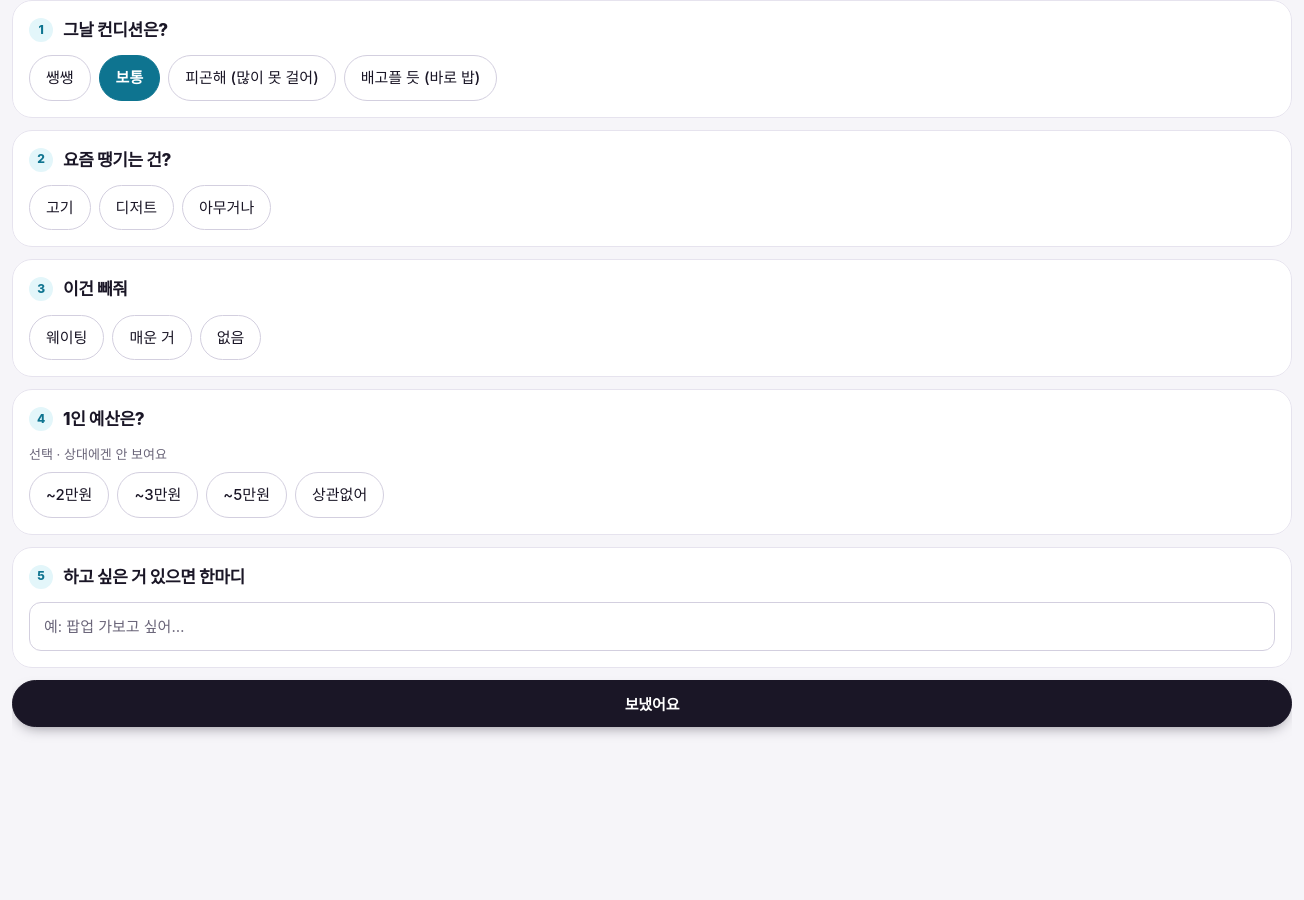
Test: TogetherCards › 땡기는 것·싫은 것을 고르지 않으면 보내지 않는다
Step 1. Click the button "보냈어요" → coordinates (652, 704), box top-left (12, 680), bottom-right (1292, 727)
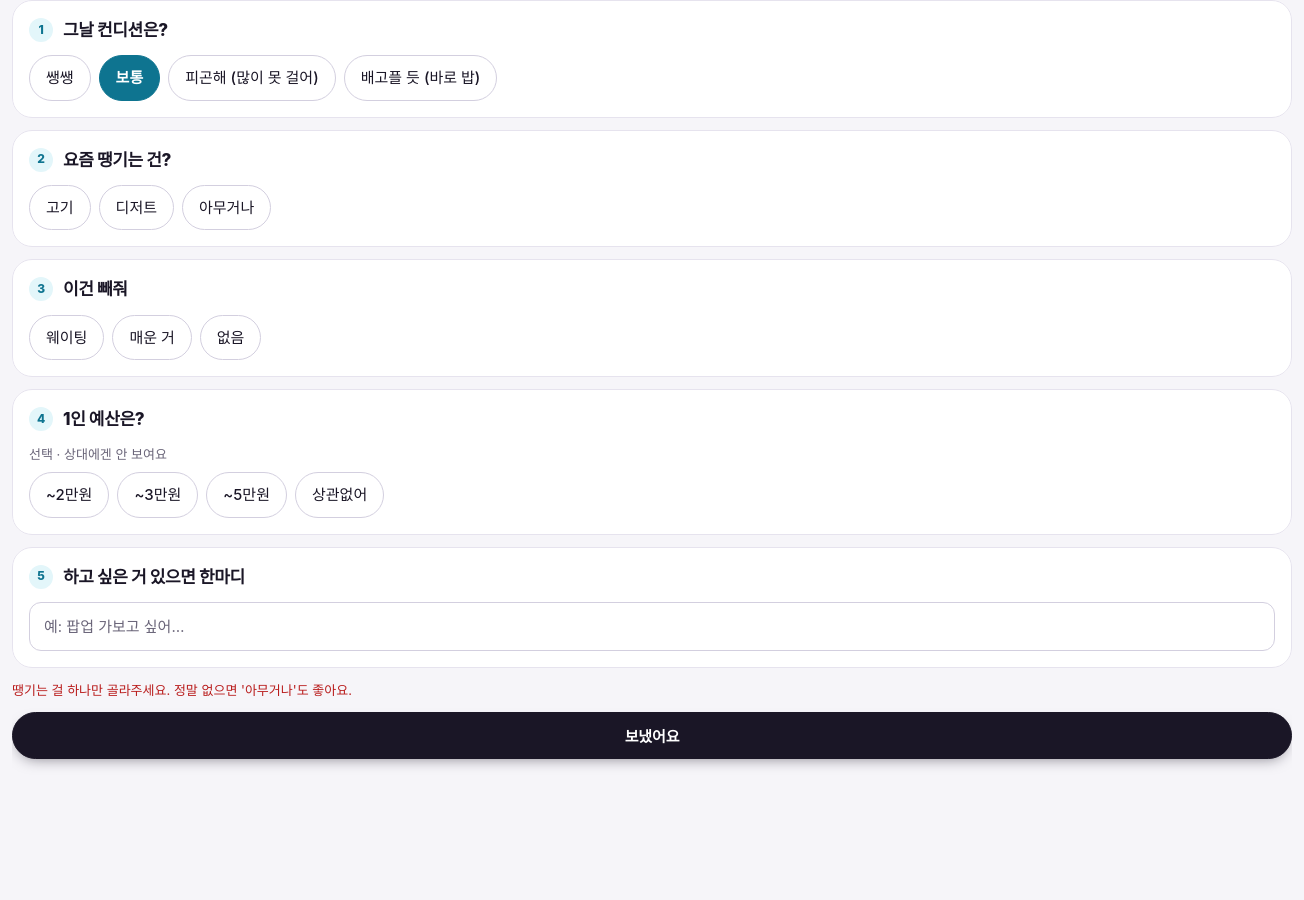
Check: the message shows "땡기는", box top-left (12, 682), bottom-right (352, 698)
